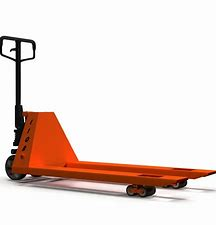Pallet Jack: (1, 34, 216, 199)
